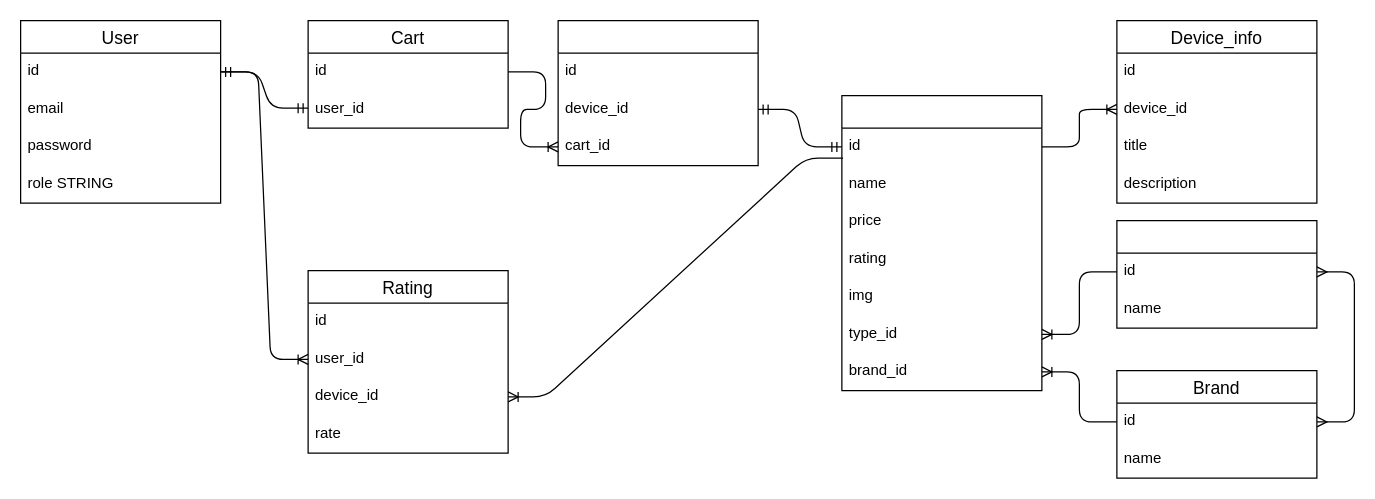
The diagram is 1375 pixels wide and 499 high, and some of its shapes have lost their labels. Each missing label, with the box of its shape:
Cart_device: (557, 19, 758, 166)
Device: (841, 94, 1042, 391)
Type: (1116, 219, 1317, 328)
